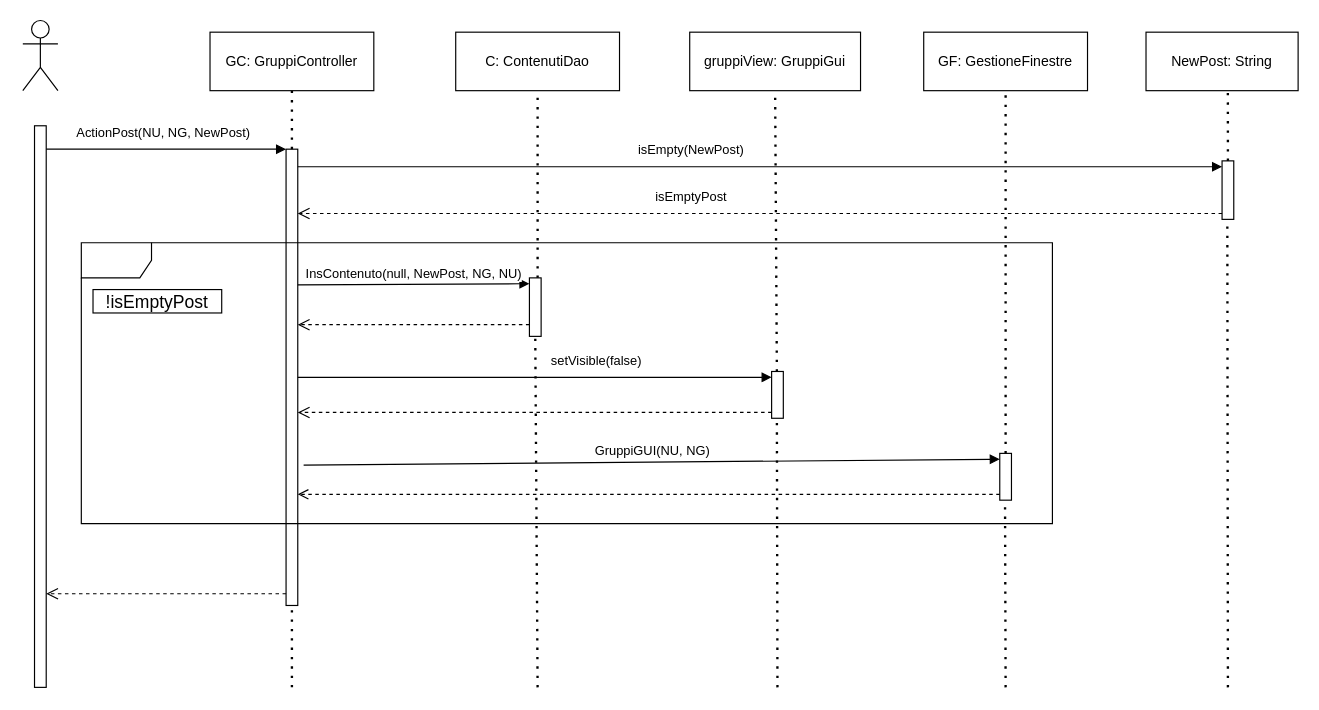
This 1319x710 diagram has some shape labels left out. The shapes that lost their labels are listed below. From the top down, each one's box as (x1, y1, x2, y2) in pixels, then its label:
(22, 19, 58, 91): Utente
(80, 242, 1052, 524): OPT
